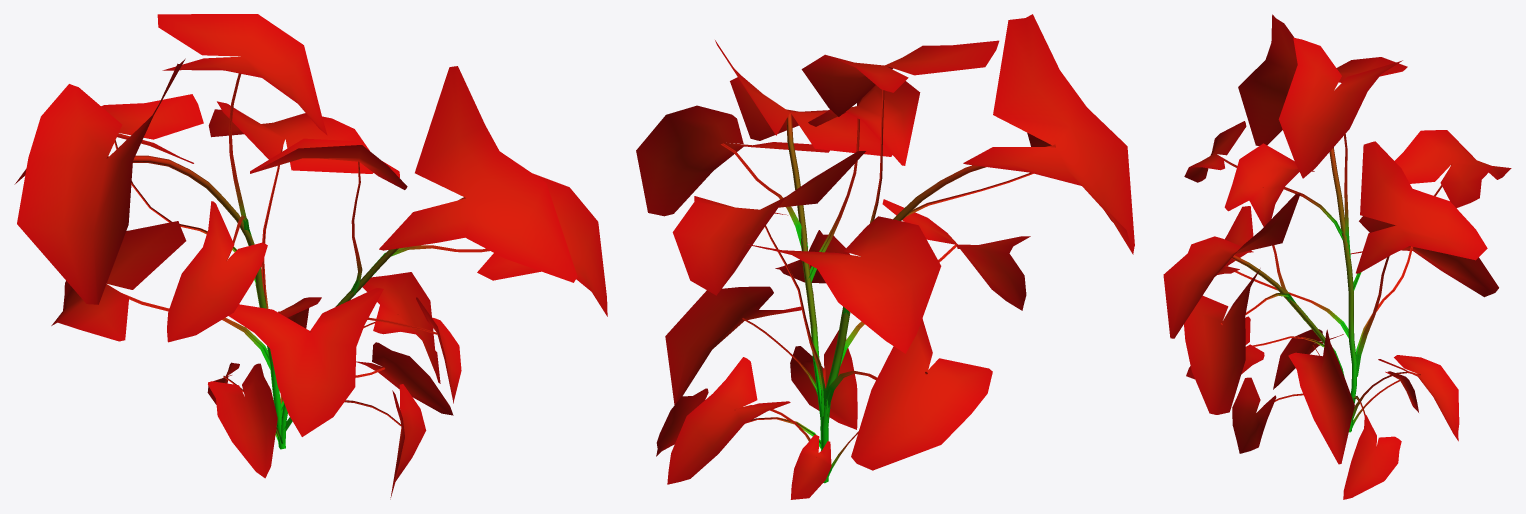
File: Arrowhead Plant_LOD1_Var4_sjsmD.fbx
3 views of the same model, side by side, from view 1: azimuth 30°, elevation 25°; view 2: azimuth 150°, elevation 25°; view 3: azimuth 270°, elevation 25° (orthographic). The views are drawn at different scales.
Parts seen in each view (by area): view 1: _80bc_Var4_LOD1; view 2: _80bc_Var4_LOD1; view 3: _80bc_Var4_LOD1.
Part boxes in pixels (x1,y1,x2,y2): _80bc_Var4_LOD1: (14, 14, 607, 499); _80bc_Var4_LOD1: (636, 14, 1134, 499); _80bc_Var4_LOD1: (1163, 14, 1511, 499).
Size of the model in its own units: 68.99 by 58.2 by 50.09.
